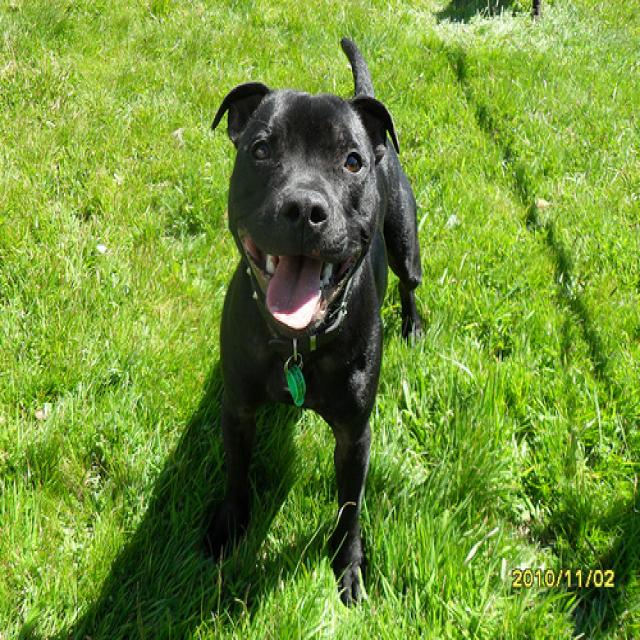dog-staffordshire_bull_terrier: (200, 27, 431, 609)
